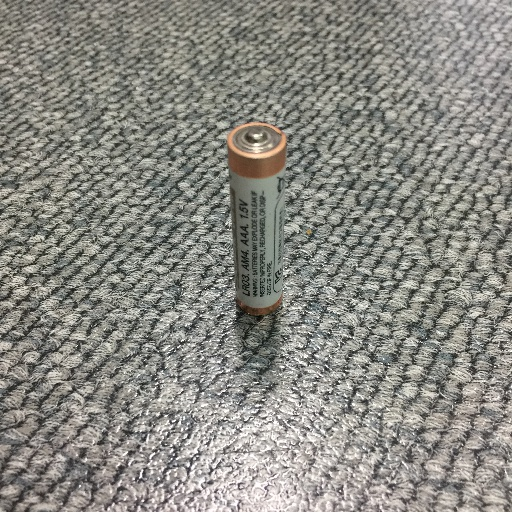Battery_0: (213, 112, 293, 322)
